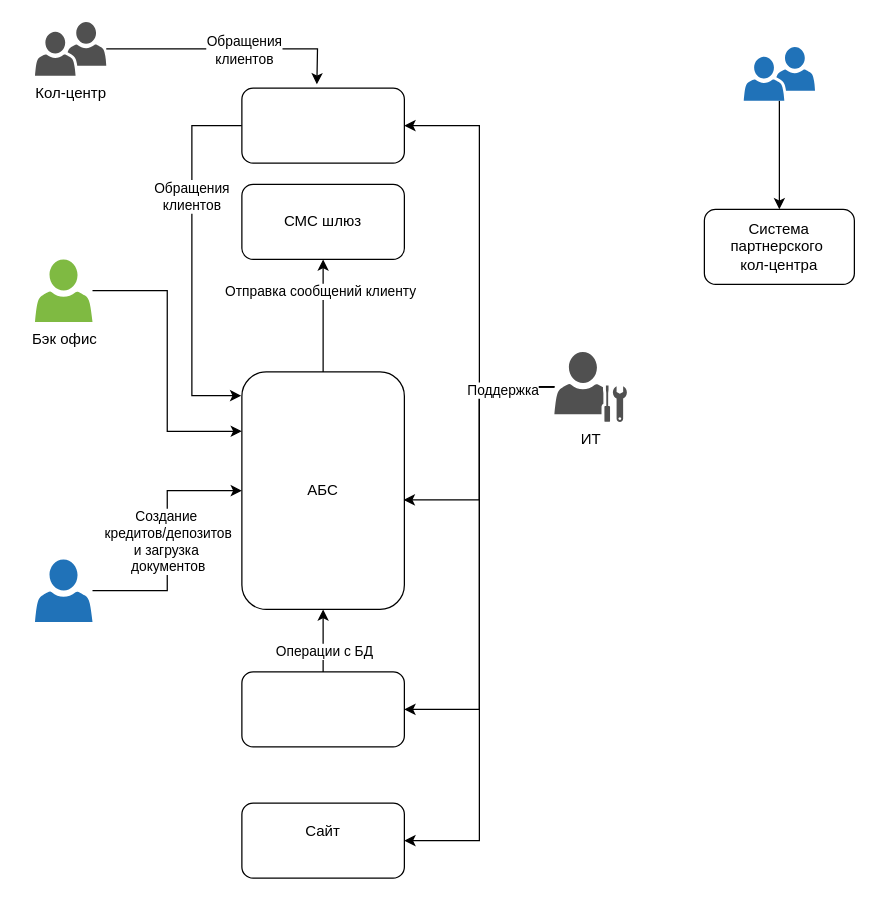
The diagram is 881 pixels wide and 900 high, and some of its shapes have lost their labels. The shapes that lost their labels are listed below. From the top down, each one's centre as x and y in pixels, then its label:
the point at 778,73: Партнерский кол-центр
the point at 322,125: Система кол-центра
the point at 63,590: Фронт офис
the point at 322,709: Интернет банк
